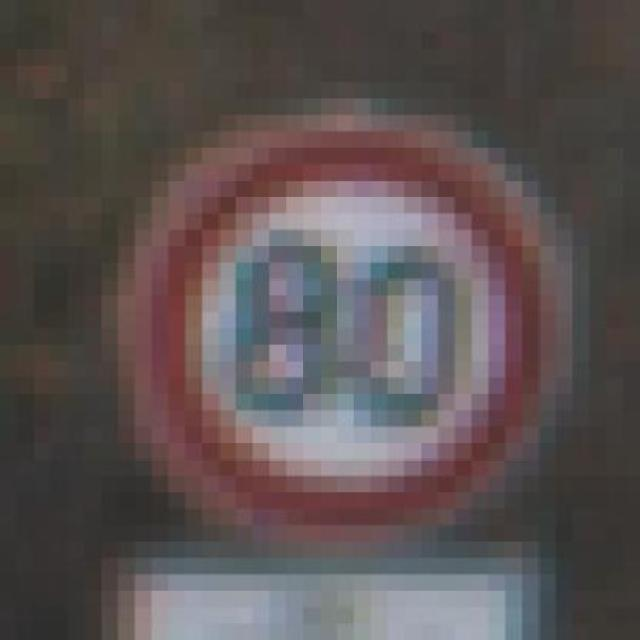forb_speed_over_80: (139, 124, 556, 539)
